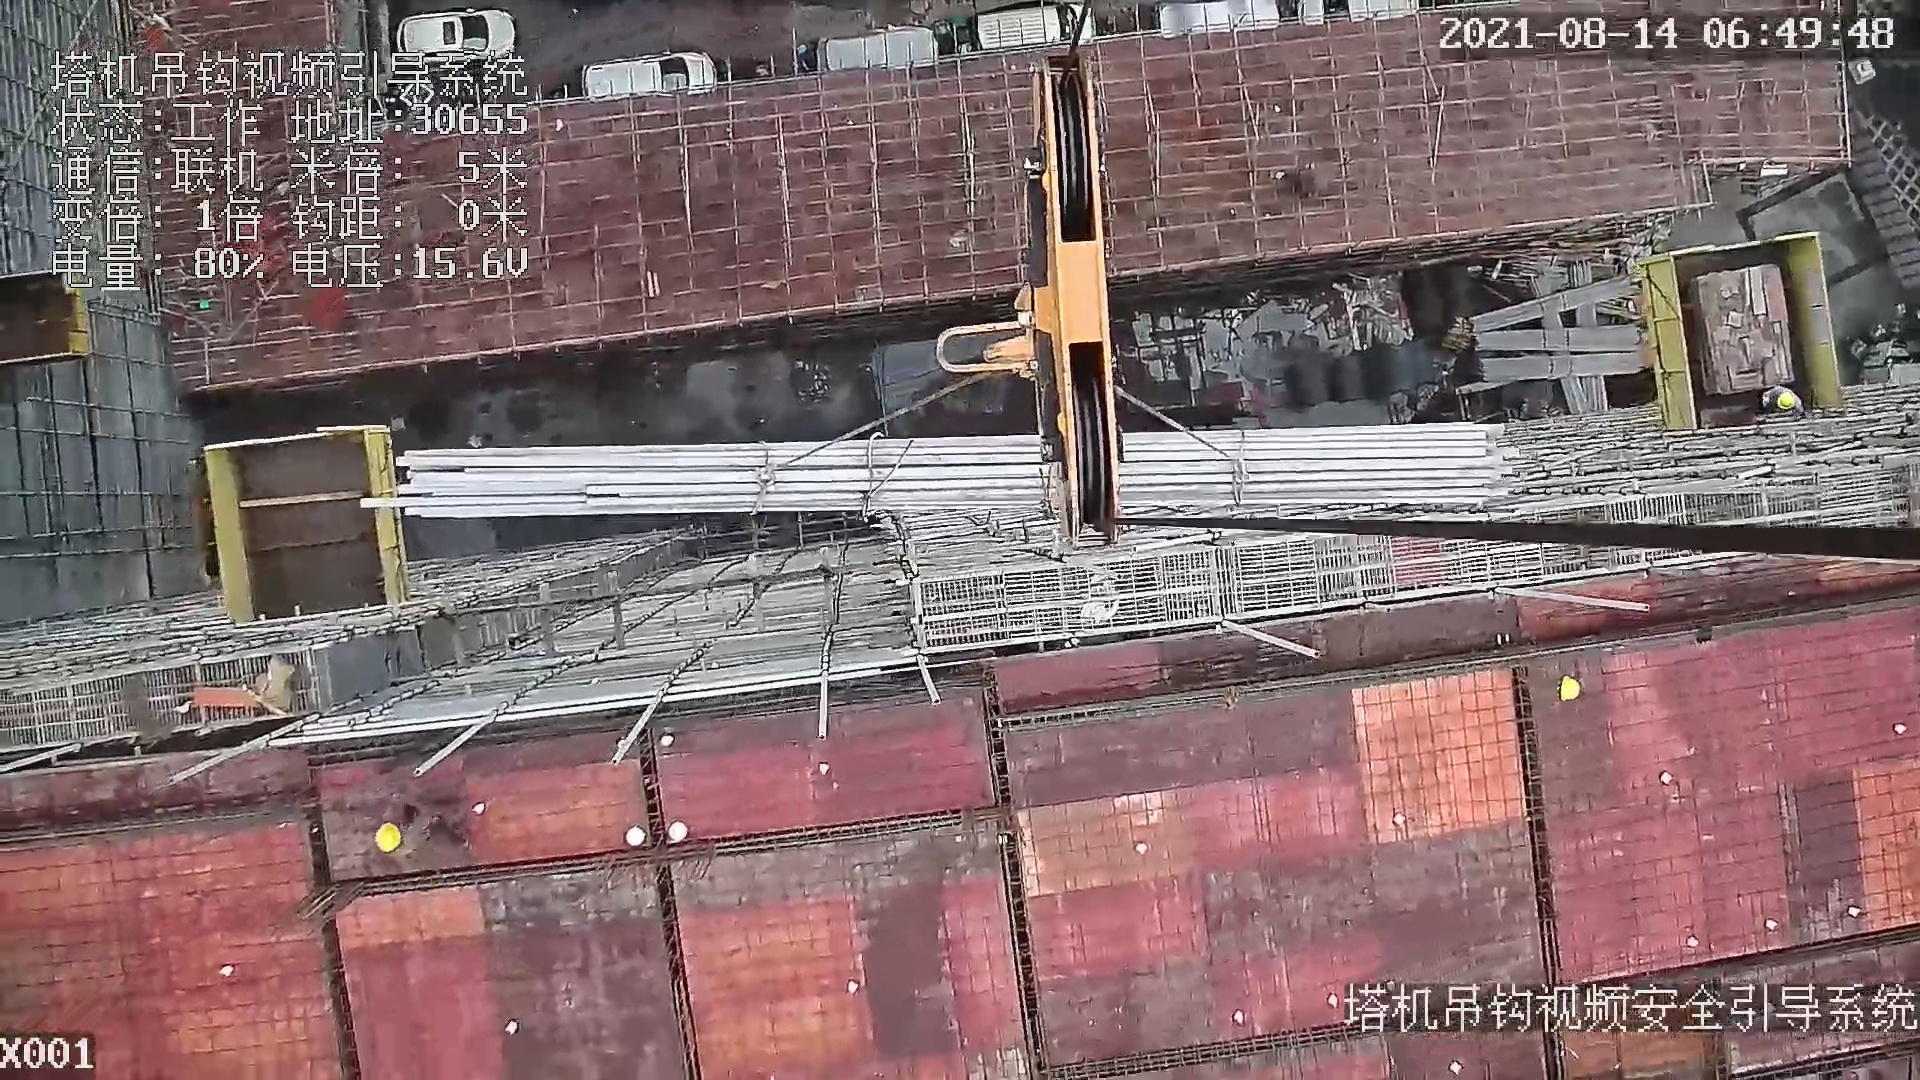helmet: (1555, 669, 1597, 714), (371, 813, 404, 858), (1777, 387, 1797, 417)
hook: (932, 42, 1128, 550)
person: (376, 799, 487, 867), (1767, 383, 1809, 427)
